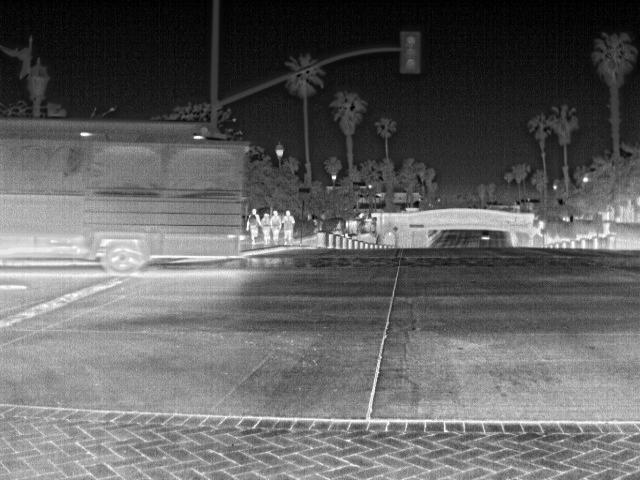car: (480, 230, 493, 241)
person: (249, 210, 266, 246), (269, 208, 285, 243), (281, 210, 295, 242), (262, 214, 274, 244)
